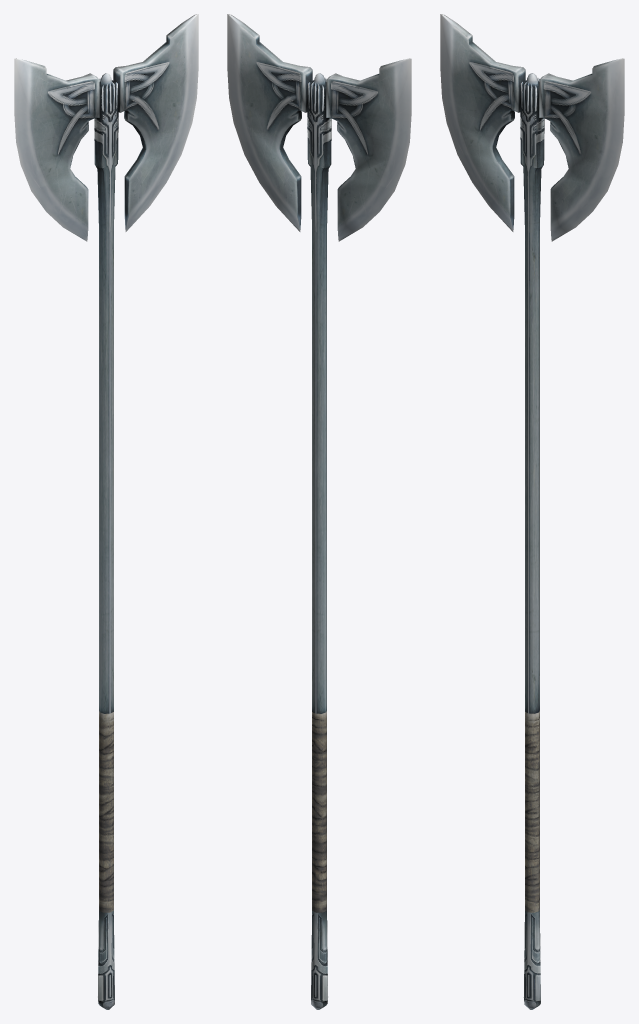
Rendered from axe_twohanded.FBX.
3 views of the same model, side by side, from view 1: azimuth 30°, elevation 25°; view 2: azimuth 150°, elevation 25°; view 3: azimuth 330°, elevation 25° (orthographic).
Visible parts, largest first — view 1: axe_twohandled; view 2: axe_twohandled; view 3: axe_twohandled.
Boxes of the visible parts, x1=… form: axe_twohandled: x1=14, y1=14, x2=198, y2=1009; axe_twohandled: x1=227, y1=14, x2=411, y2=1009; axe_twohandled: x1=440, y1=14, x2=624, y2=1009.
Size of what is drawn, in the model's own units: 26.87 by 136 by 2.28.
